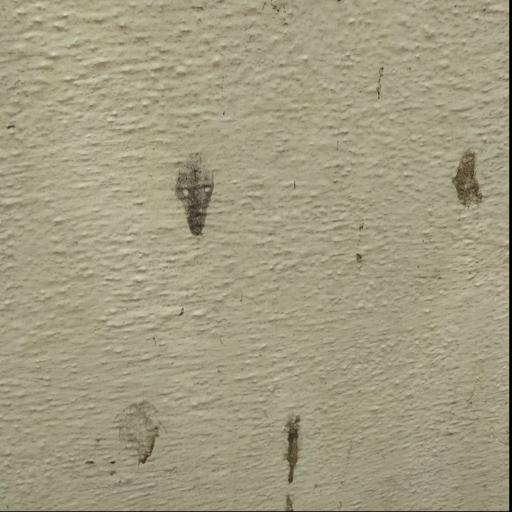stain: (140, 151, 244, 251), (84, 387, 178, 489), (263, 403, 323, 512), (442, 133, 489, 219), (357, 54, 413, 118), (343, 216, 376, 285), (289, 169, 319, 210)
